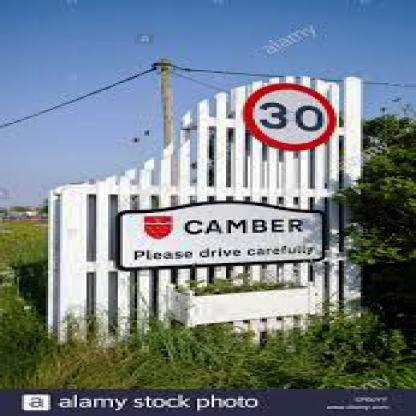Speed Limit -30-: (243, 79, 337, 150)
